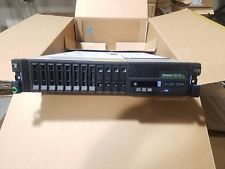ibm-server: (8, 55, 205, 101)
